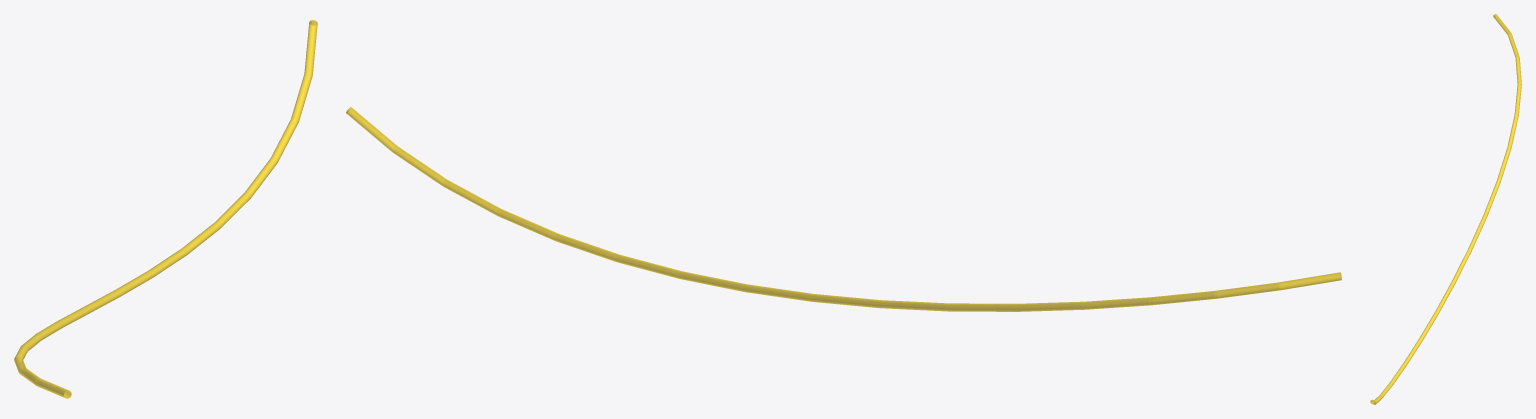
Rendered from Event_17758602_track_113.fbx.
3 views of the same model, side by side, from view 1: azimuth 90°, elevation 25°; view 2: azimuth 150°, elevation 25°; view 3: azimuth 270°, elevation 25° (orthographic). The views are drawn at different scales.
Parts seen in each view (by area): view 1: Model; view 2: Model; view 3: Model.
Boxes of the visible parts, x1,y1,x2,y2 form: Model: (14,20,317,398); Model: (346,107,1341,311); Model: (1370,14,1521,404).
Bounding box in the file's own units: 6.3 × 1.32 × 1.41.
